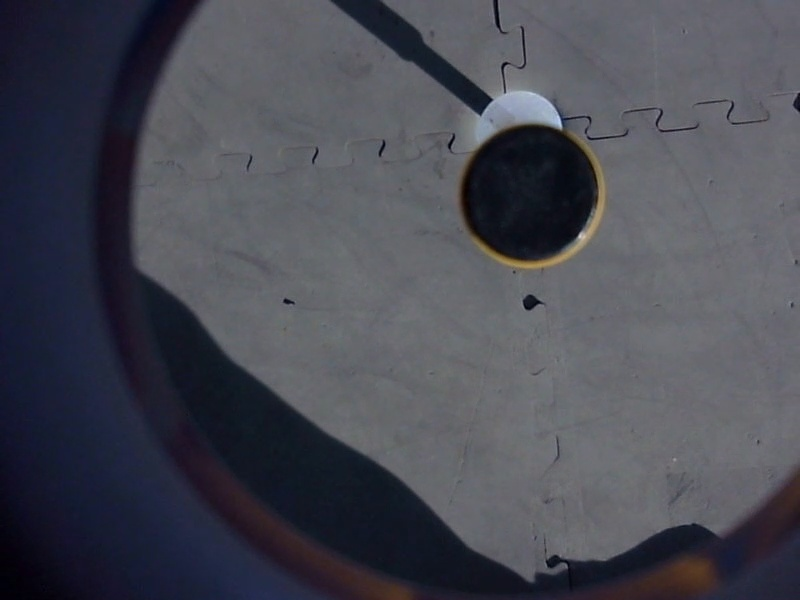tip: (452, 116, 613, 277)
